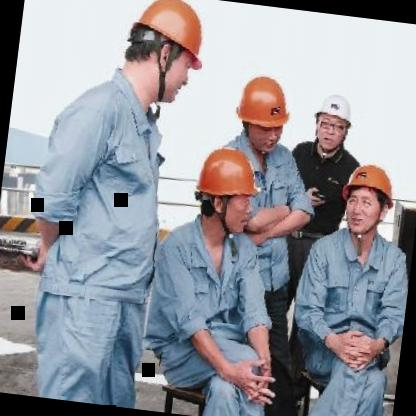helmet: (115, 0, 212, 111), (184, 139, 260, 240), (334, 152, 403, 242), (228, 66, 295, 158), (307, 80, 360, 157)
